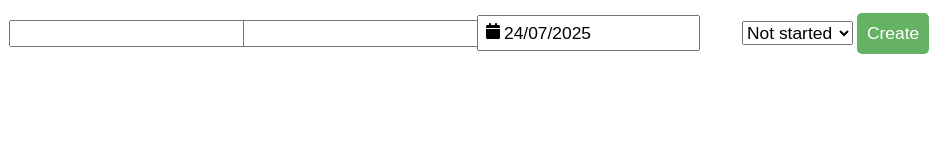
TaskRow › enables create button when title populated
In the field named "title": (129, 34) [9,20,249,47], type "title-text"
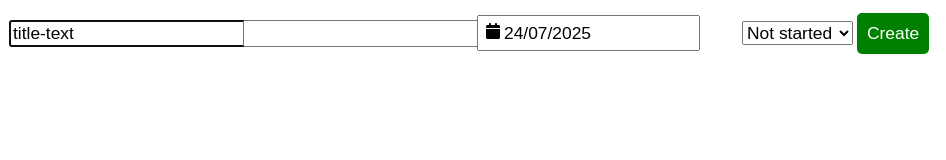
Check: the button "Create" is enabled, box [857,13,929,54]
